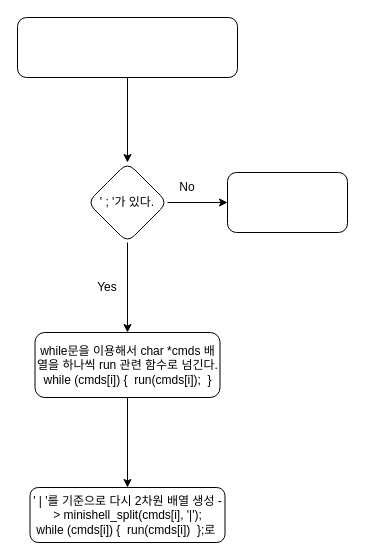
Image size: 365x560. Some labels were removed from this diagram. The box of each missing label's shape, as (x1, y1, x2, y2) in pixels:
display error: (226, 172, 348, 232)
input을 받아서 ' ; '을 기준으로 2차원 배열을 만든다. (char **minishell_split(char *line, char c);: (16, 16, 238, 78)
